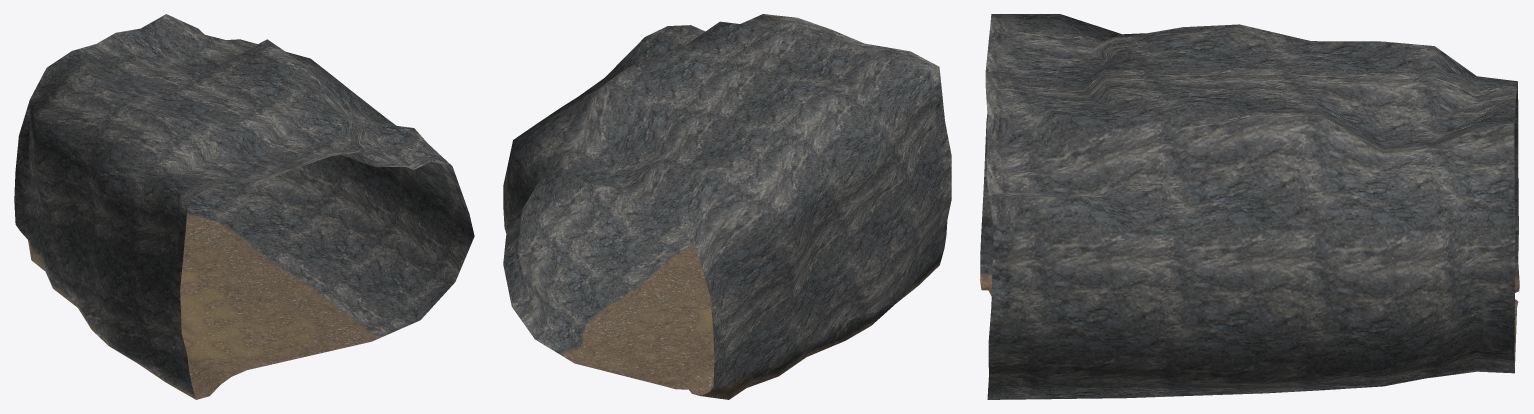
Rendered from piece.obj.
The picture shows the model from 3 angles, left to right: view 1: azimuth 30°, elevation 25°; view 2: azimuth 150°, elevation 25°; view 3: azimuth 270°, elevation 25°; orthographic projection. The views are drawn at different scales.
Parts seen in each view (by area): view 1: TunnelA10; view 2: TunnelA10; view 3: TunnelA10.
Part boxes in pixels (x1,y1,x2,y2): TunnelA10: [14, 14, 474, 399]; TunnelA10: [503, 14, 951, 399]; TunnelA10: [980, 14, 1519, 399].
Size of the model in its own units: 4.22 by 2.95 by 4.88.
Materials: 1 (1 with a texture image).
